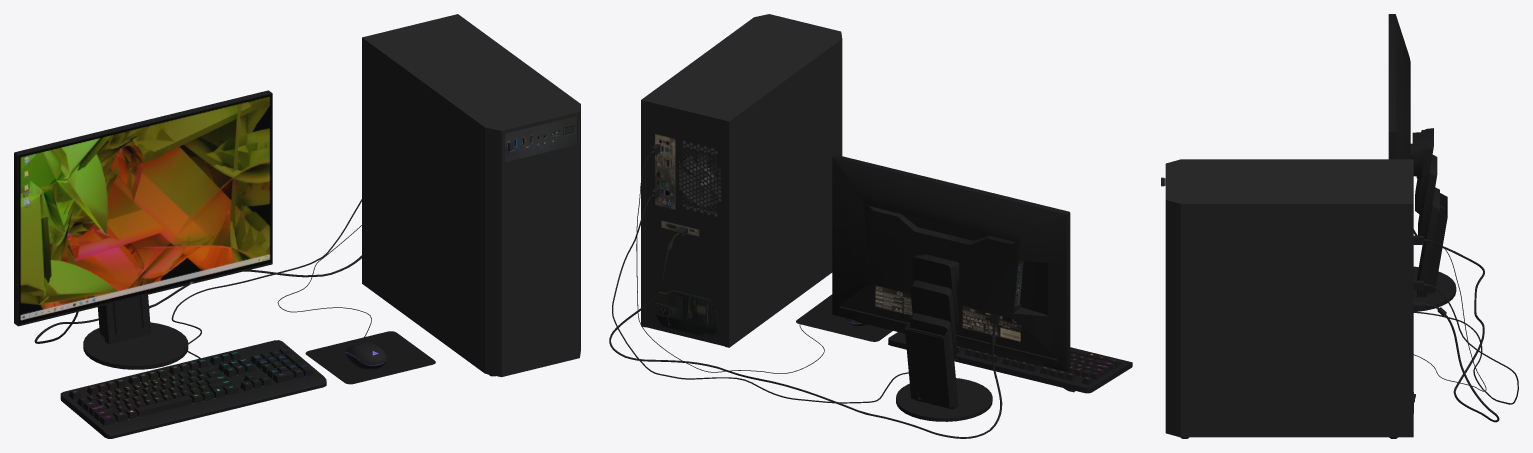
The model's file is desktop_pc (1).gltf.
The picture shows the model from 3 angles, left to right: view 1: azimuth 30°, elevation 25°; view 2: azimuth 150°, elevation 25°; view 3: azimuth 270°, elevation 25°; orthographic projection. The views are drawn at different scales.
Parts seen in each view (by area): view 1: pc_01_18, Monitor_01_7, Keyboard_1_4, Keyboard_2_5, Monitor_09_15, Pad_3, Monitor_07_13, Mouse_1_16, Cord_1_0, Cord_2_1; view 2: pc_01_18, Monitor_01_7, Monitor_08_14, Monitor_09_15, Keyboard_2_5, Keyboard_1_4, Cord_1_0, Pad_3, Monitor_06_12, Monitor_05_11, Cord_2_1, Monitor_07_13 (+3 smaller); view 3: pc_01_18, Monitor_01_7, Cord_1_0, Monitor_07_13, Monitor_08_14, Monitor_09_15, Monitor_05_11, Monitor_06_12, Cord_2_1, Cord_3_2, Monitor_03_9.
Part boxes in pixels (bbox=[...]): pc_01_18: bbox=[362, 14, 580, 377]; Monitor_01_7: bbox=[14, 90, 272, 326]; Keyboard_1_4: bbox=[69, 347, 313, 425]; Keyboard_2_5: bbox=[60, 340, 326, 438]; Monitor_09_15: bbox=[83, 322, 188, 369]; Pad_3: bbox=[305, 331, 435, 384]; Monitor_07_13: bbox=[102, 295, 150, 344]; Mouse_1_16: bbox=[345, 342, 386, 369]; Cord_1_0: bbox=[34, 255, 361, 343]; Cord_2_1: bbox=[171, 199, 361, 358]; pc_01_18: bbox=[641, 14, 842, 347]; Monitor_01_7: bbox=[832, 155, 1070, 371]; Monitor_08_14: bbox=[905, 322, 954, 409]; Monitor_09_15: bbox=[896, 378, 992, 421]; Keyboard_2_5: bbox=[888, 332, 1132, 393]; Keyboard_1_4: bbox=[957, 346, 1121, 384]; Cord_1_0: bbox=[609, 226, 1002, 438]; Pad_3: bbox=[796, 294, 892, 341]; Monitor_06_12: bbox=[910, 280, 957, 357]; Monitor_05_11: bbox=[912, 255, 958, 327]; Cord_2_1: bbox=[612, 187, 957, 403]; Monitor_07_13: bbox=[909, 313, 958, 408]; pc_01_18: bbox=[1165, 159, 1413, 437]; Monitor_01_7: bbox=[1388, 14, 1410, 159]; Cord_1_0: bbox=[1413, 229, 1499, 422]; Monitor_07_13: bbox=[1417, 187, 1439, 297]; Monitor_08_14: bbox=[1425, 193, 1447, 296]; Monitor_09_15: bbox=[1413, 266, 1456, 311]; Monitor_05_11: bbox=[1415, 128, 1433, 215]; Monitor_06_12: bbox=[1418, 155, 1437, 244]; Cord_2_1: bbox=[1413, 280, 1518, 404]; Cord_3_2: bbox=[1413, 235, 1486, 391]; Monitor_03_9: bbox=[1412, 132, 1421, 176].
Size of the model in its own units: 0.9445 by 0.4998 by 0.6805.
6 materials, 4 textured.
